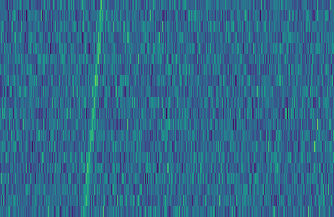signal: (79, 0, 105, 217)
